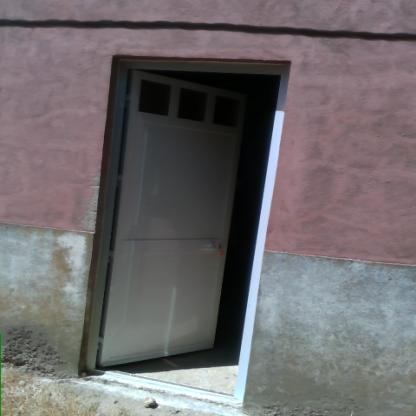semi: (97, 42, 296, 395)
